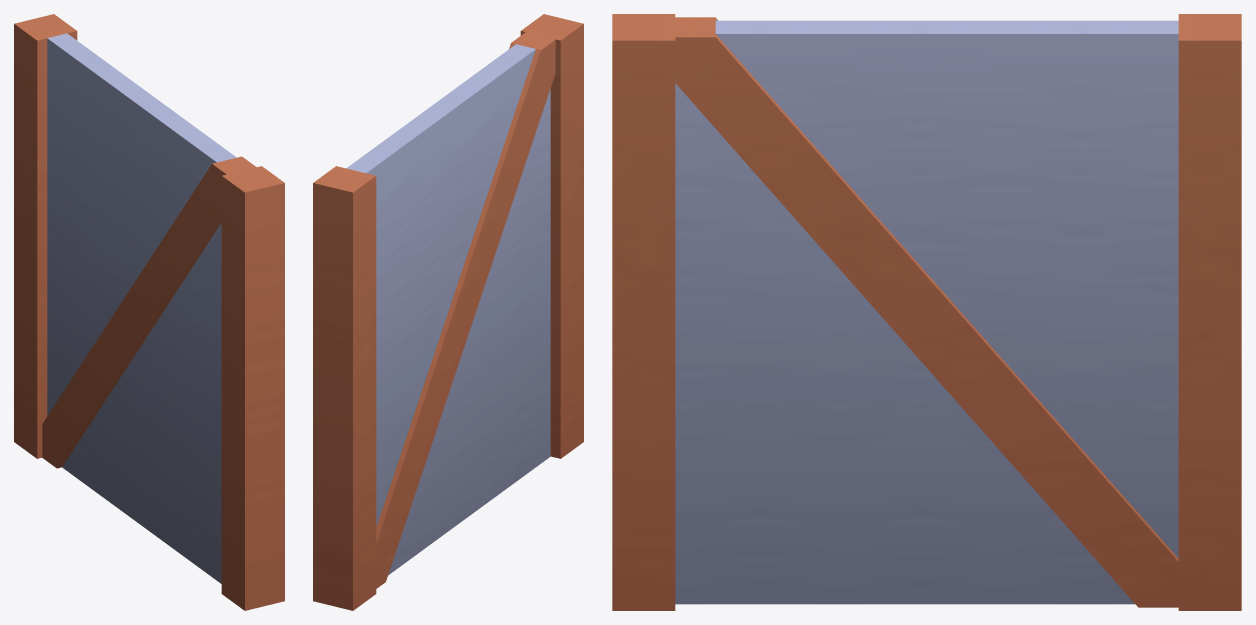
The model's file is wallDetailDiagonal.fbx.
3 views of the same model, side by side, from view 1: azimuth 30°, elevation 25°; view 2: azimuth 150°, elevation 25°; view 3: azimuth 270°, elevation 25° (orthographic). The views are drawn at different scales.
Visible parts, largest first — view 1: wallDetailDiagonal; view 2: wallDetailDiagonal; view 3: wallDetailDiagonal.
Part boxes in pixels (left/top/right/bottom): wallDetailDiagonal: left=14, top=14, right=284, bottom=610; wallDetailDiagonal: left=313, top=14, right=583, bottom=610; wallDetailDiagonal: left=612, top=14, right=1241, bottom=610.
Bounding box in the file's own units: 0.1 × 1 × 1.
